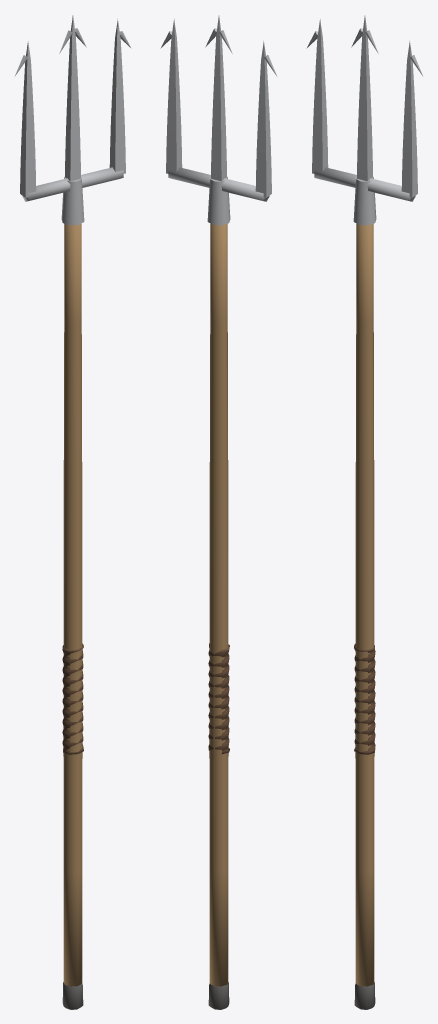
The model's file is trident.glb.
3 views of the same model, side by side, from view 1: azimuth 30°, elevation 25°; view 2: azimuth 150°, elevation 25°; view 3: azimuth 330°, elevation 25° (orthographic).
Parts seen in each view (by area): view 1: trident; view 2: trident; view 3: trident.
Boxes of the visible parts, <box> form: trident: <box>15,15,131,1009</box>; trident: <box>160,15,276,1009</box>; trident: <box>306,15,422,1009</box>.
Bounding box in the file's own units: 0.532 × 4.3 × 0.0924.
